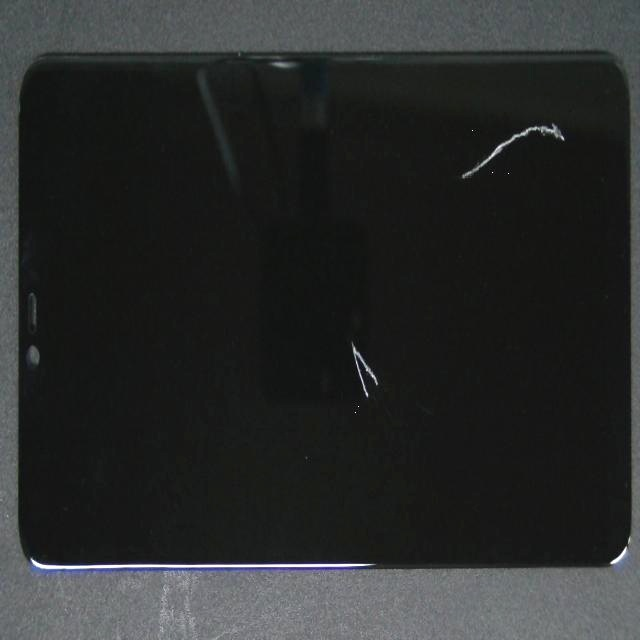scratch: (154, 172, 530, 586), (207, 81, 640, 258)
